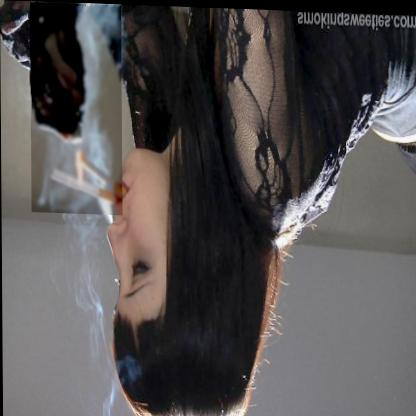smoke: (33, 6, 121, 212)
